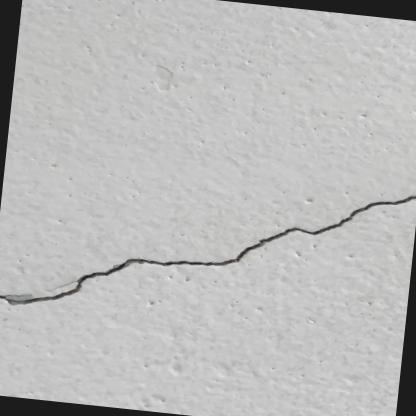crack: (0, 195, 416, 305)
